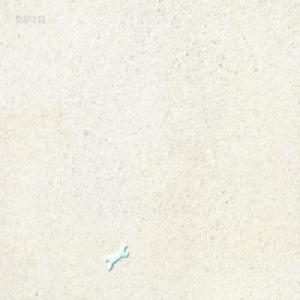Wrench: (105, 242, 128, 271)
